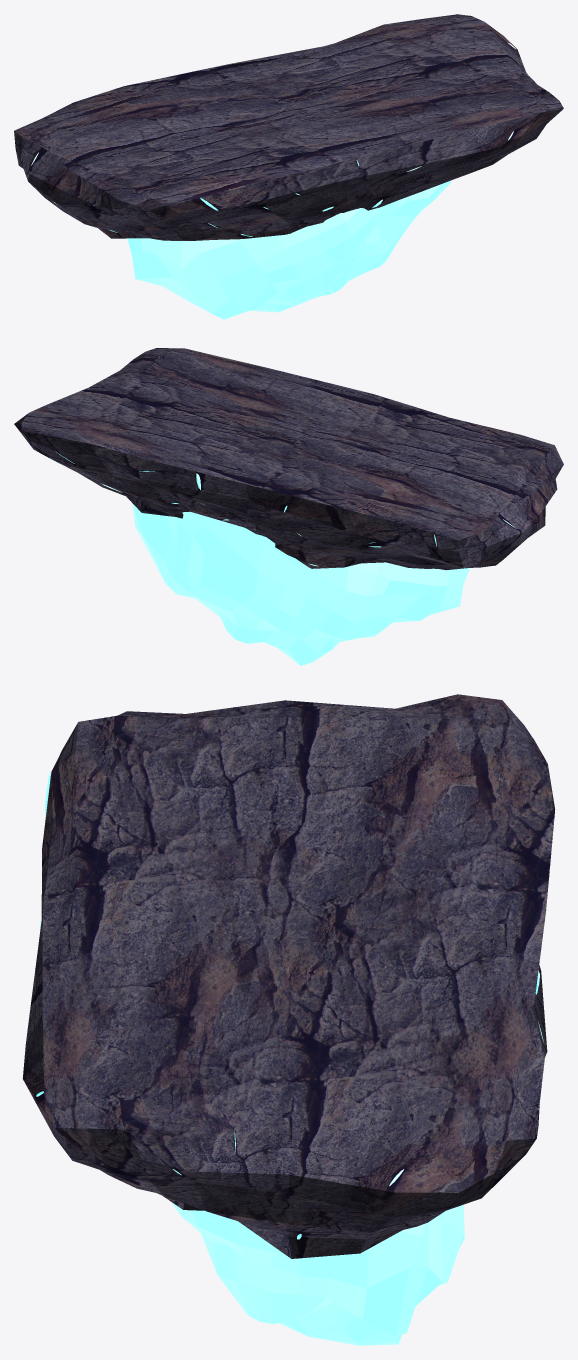
File: BossPlatform.fbx
3 renders of one model, top to bottom at view 1: azimuth 30°, elevation 25°; view 2: azimuth 150°, elevation 25°; view 3: azimuth 270°, elevation 25°, orthographic. The views are drawn at different scales.
Visible parts, largest first — view 1: Платформа, Кристалл основа; view 2: Платформа, Кристалл основа; view 3: Платформа, Кристалл основа.
Part boxes in pixels (x1,y1,x2,y2): Платформа: (14,14,563,240); Кристалл основа: (127,180,451,319); Платформа: (14,348,563,570); Кристалл основа: (132,504,469,665); Платформа: (22,694,555,1258); Кристалл основа: (171,928,464,1345).
Size of the model in its own units: 2232 by 948 by 1049.
